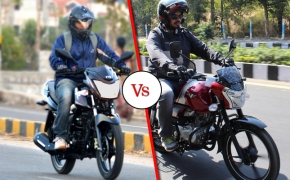helmet: (156, 1, 189, 30), (66, 7, 94, 36)
